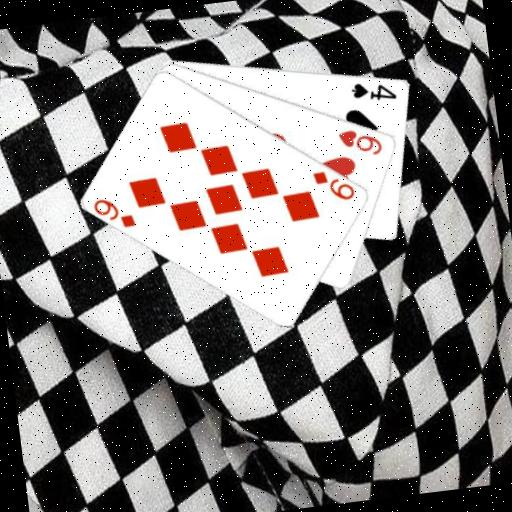4S: (348, 75, 399, 106)
6H: (335, 123, 386, 161)
9D: (309, 164, 358, 206), (90, 192, 139, 234)
